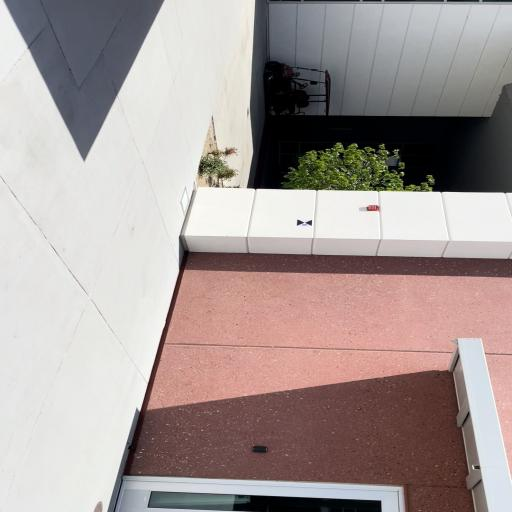target6: (297, 220, 312, 226)
